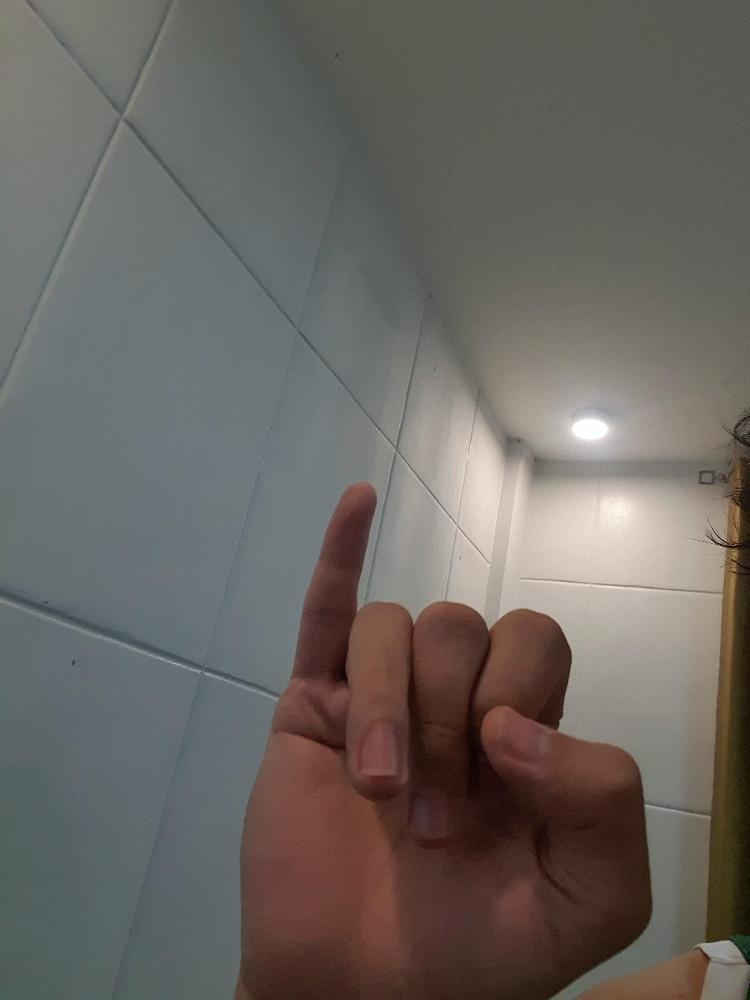i: (236, 476, 657, 999)
